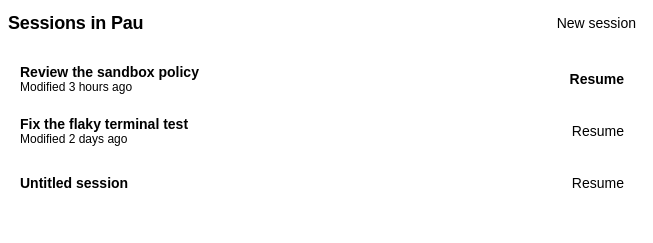
Test case: shows the reason a resume failed and keeps the list usable
Click the button with aria-label "Resume Review the sandbox policy" at (597, 79), box [558,63,636,95]
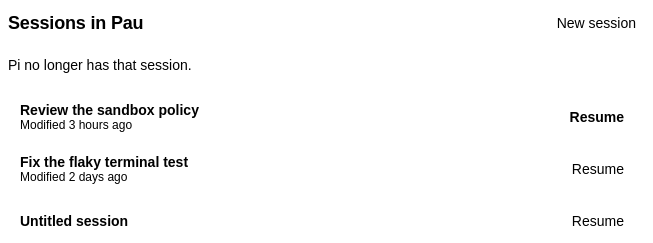
Expected: the button with aria-label "Resume Review the sandbox policy" is enabled, [558,101,636,133]
Expected: the message reads "Pi no longer has that session.", [8,57,192,73]
